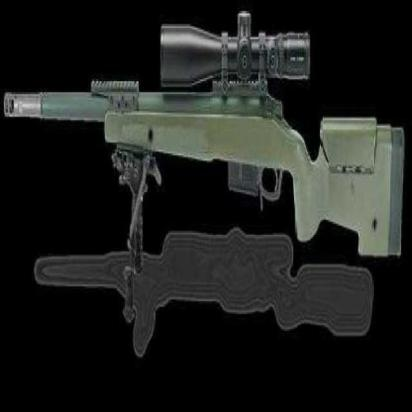Gun: (2, 12, 408, 270)
